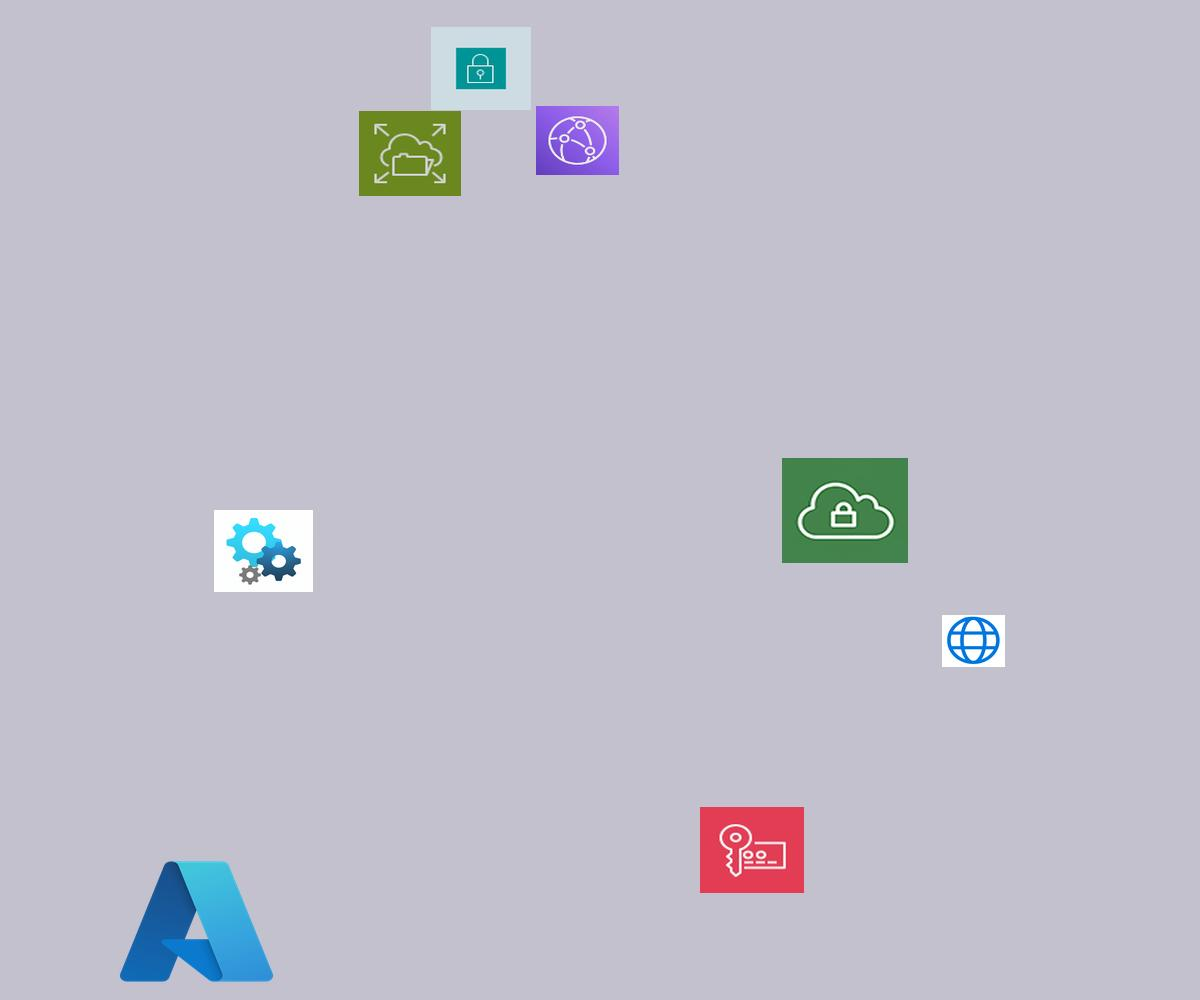AWS-CloudFront: (536, 106, 619, 175)
AWS-EFS: (359, 111, 461, 196)
AWS-Key-Management-Service: (700, 807, 804, 893)
AWS-Private-subnet: (431, 27, 531, 110)
AWS-Private_vpc: (782, 458, 908, 563)
Azure_api: (214, 510, 313, 592)
Azure_http: (942, 615, 1005, 667)
Azure_services: (113, 852, 280, 991)
